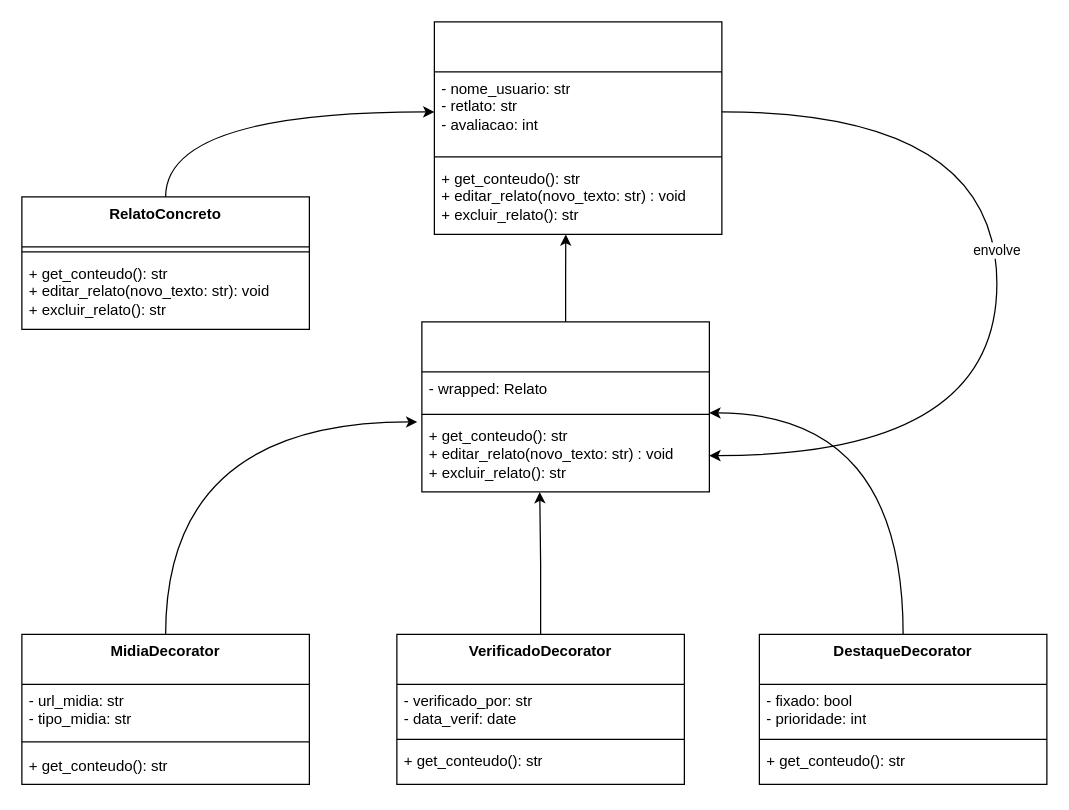
Some shapes in this 1069 by 810 pixel diagram are drawn without their labels. The box of each missing label's shape, as (x1, y1, x2, y2) in pixels:
<<abstract>> Relato: (433, 21, 722, 234)
RelatoDecorator: (421, 321, 709, 492)
